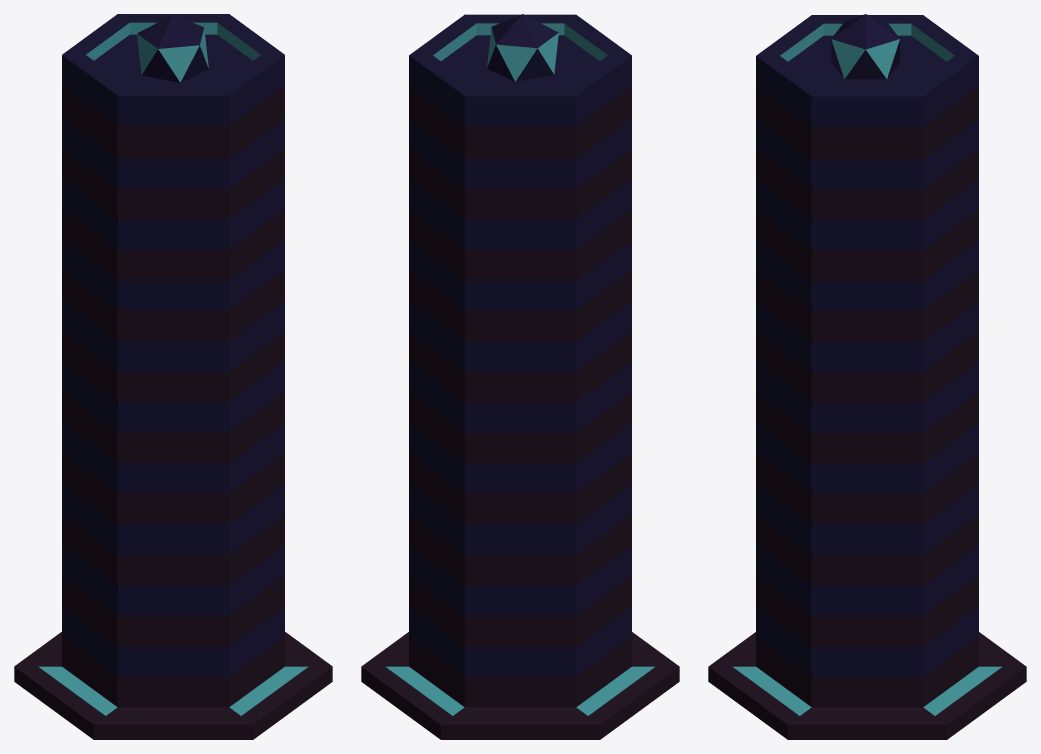
File: House4.fbx
The picture shows the model from 3 angles, left to right: view 1: azimuth 30°, elevation 25°; view 2: azimuth 150°, elevation 25°; view 3: azimuth 270°, elevation 25°; orthographic projection.
Visible parts, largest first — view 1: House4; view 2: House4; view 3: House4.
Boxes of the visible parts, box(x1,y1,x2,y2) form: House4: box(14, 14, 332, 739); House4: box(361, 14, 679, 739); House4: box(708, 14, 1026, 739).
Size of the model in its own units: 328 by 875 by 378.
